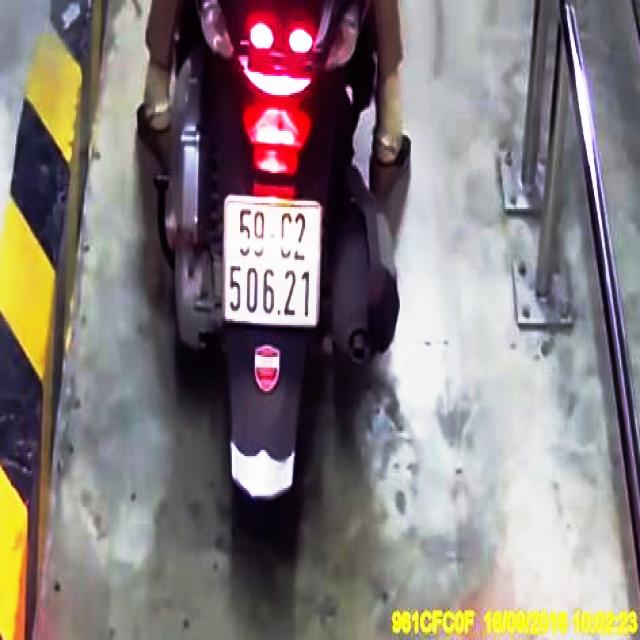license_plate: (223, 195, 324, 330)
